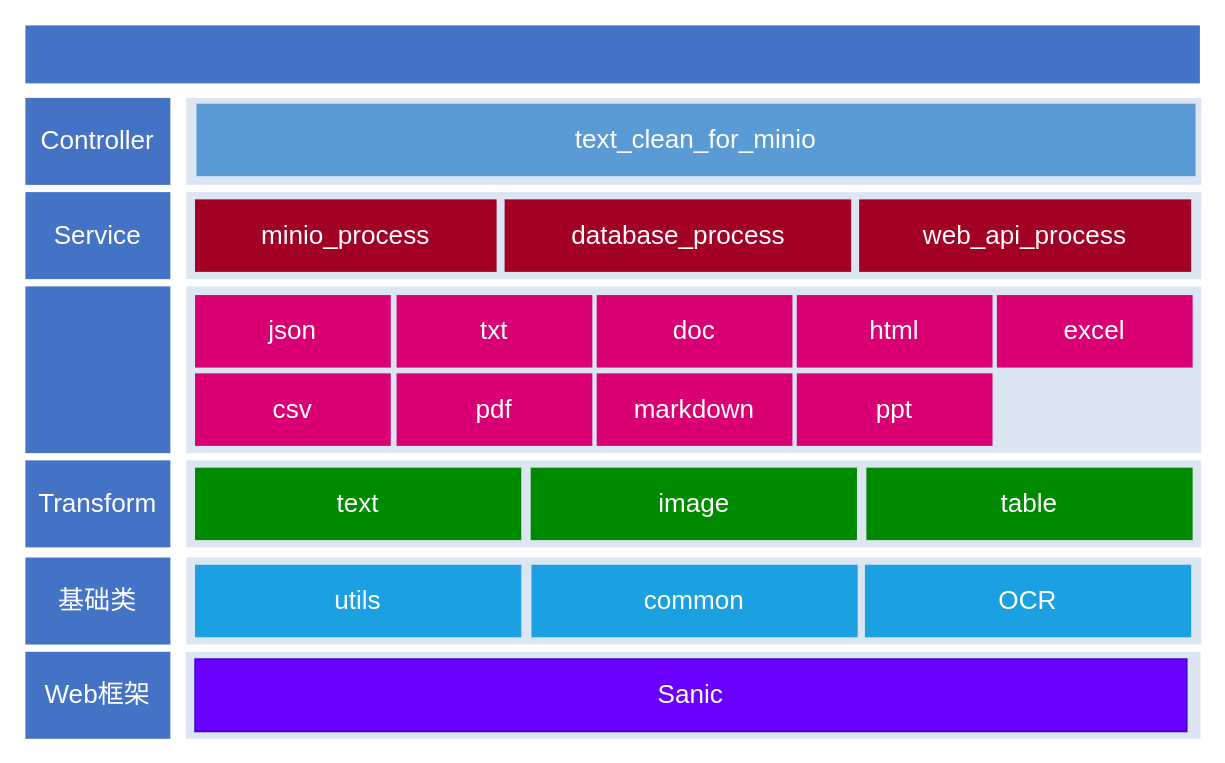
This 1225x763 diagram has some shape labels left out. Here are the shapes that lost their labels. From the top down, the centre of each, then its label:
At pixel 612 54: "数据处理HTTP服务".
At pixel 97 369: "Handle".
